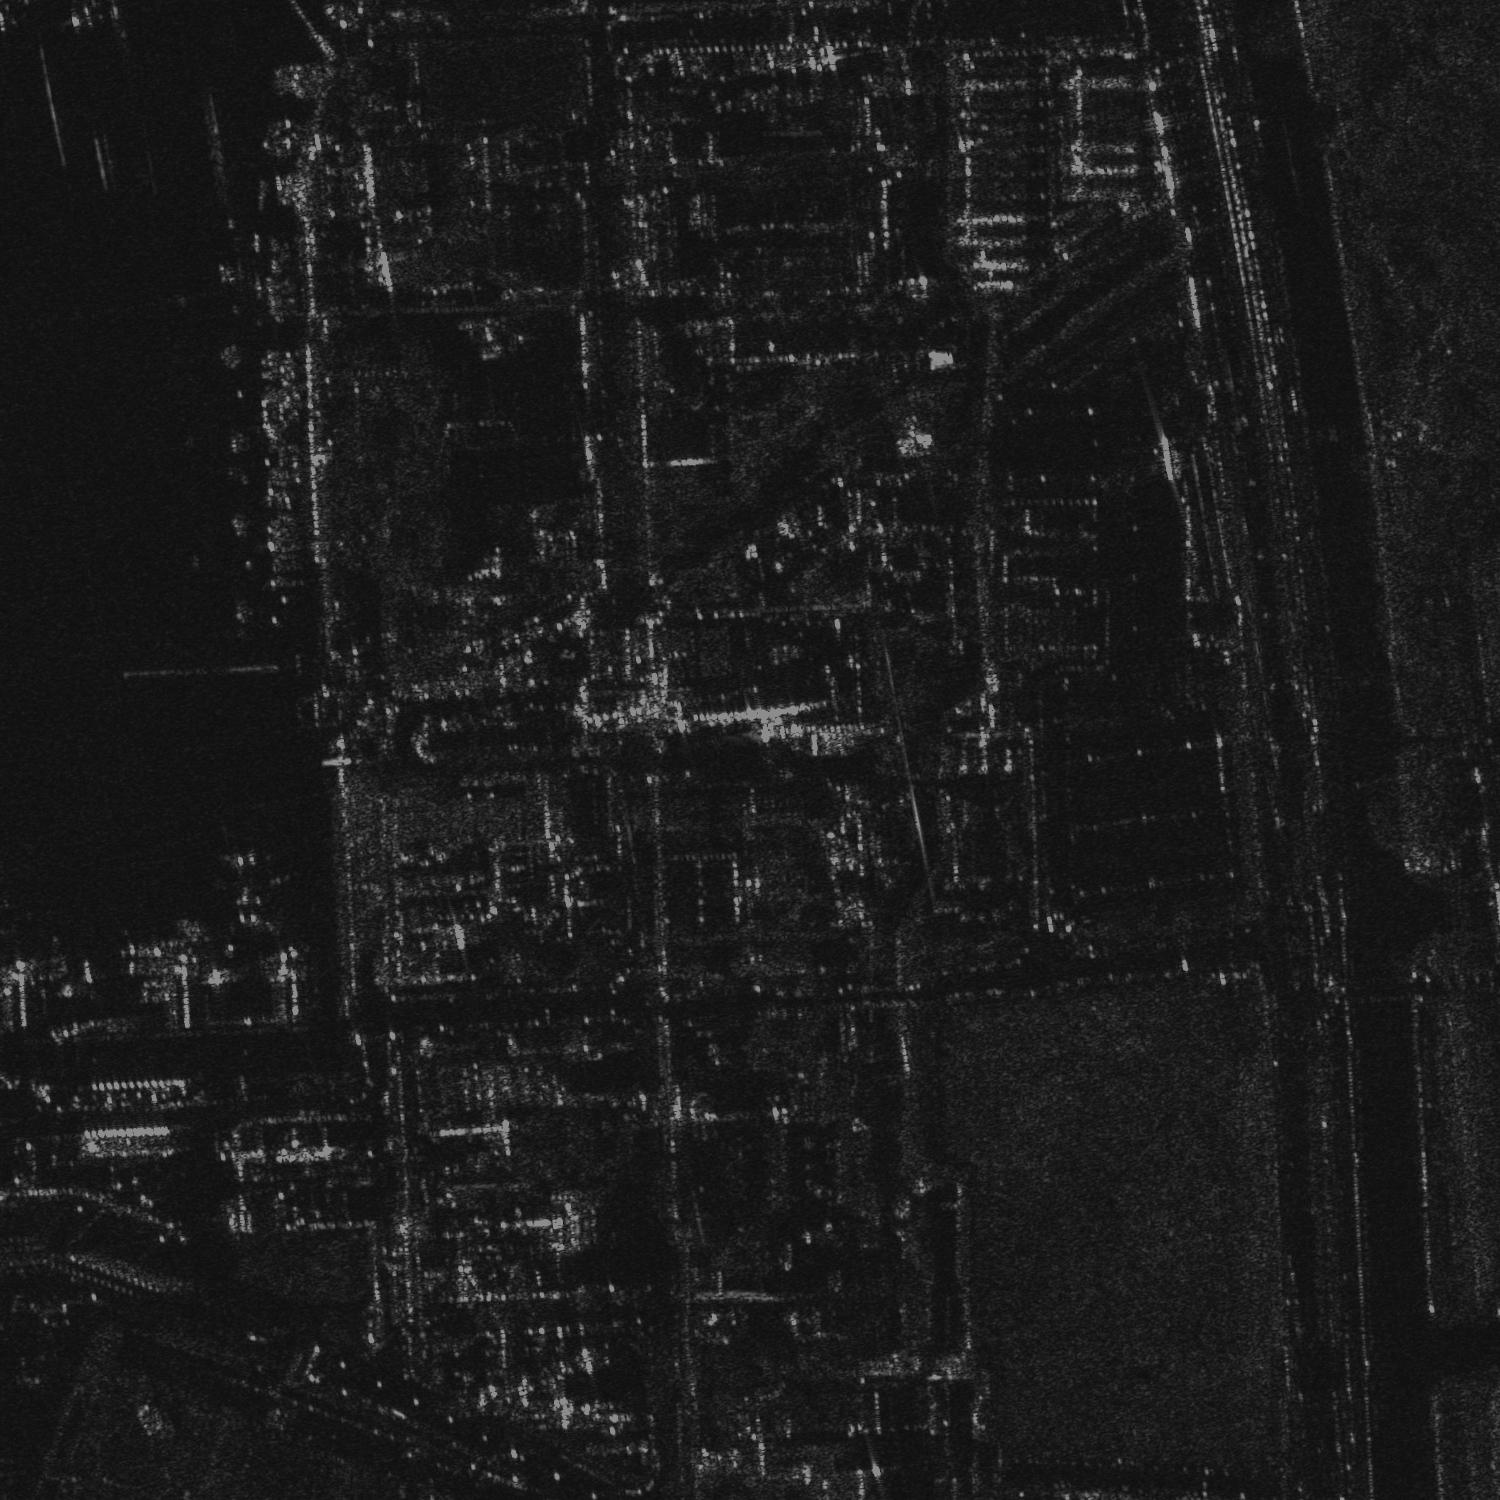A220: (196, 848, 293, 937)
